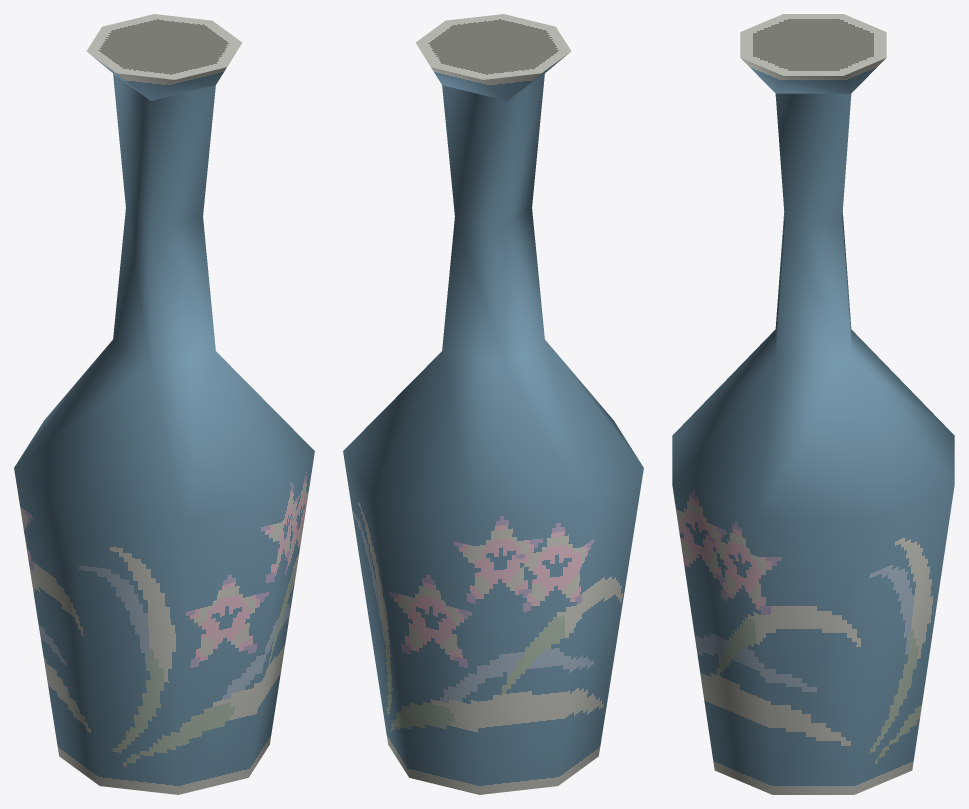
The model's file is 0198_Vase.glb.
The picture shows the model from 3 angles, left to right: view 1: azimuth 30°, elevation 25°; view 2: azimuth 150°, elevation 25°; view 3: azimuth 270°, elevation 25°; orthographic projection.
Visible parts, largest first — view 1: part_0; view 2: part_0; view 3: part_0.
Boxes of the visible parts, x1,y1,x2,y2 form: part_0: [14, 14, 314, 794]; part_0: [343, 14, 643, 794]; part_0: [672, 14, 954, 794].
Size of the model in its own units: 0.133 by 0.3683 by 0.133.
1 material, 1 textured.
